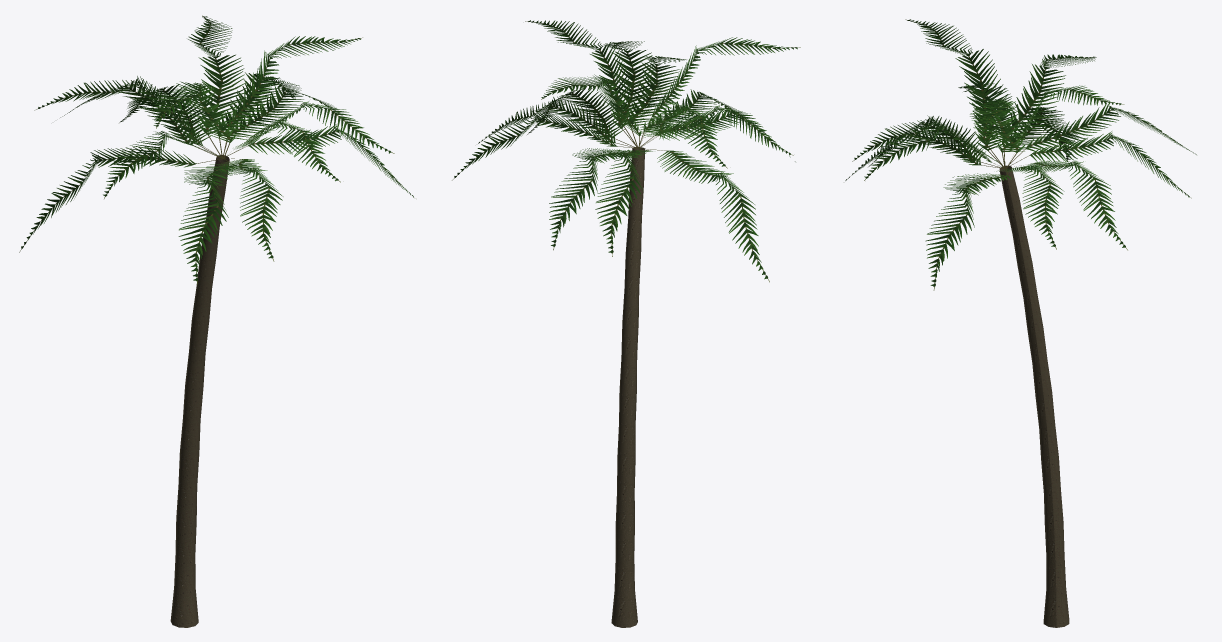
The model's file is SM_Palm_02.gltf.
The picture shows the model from 3 angles, left to right: view 1: azimuth 30°, elevation 25°; view 2: azimuth 150°, elevation 25°; view 3: azimuth 270°, elevation 25°; orthographic projection. The views are drawn at different scales.
Visible parts, largest first — view 1: SM_Palm_02; view 2: SM_Palm_02; view 3: SM_Palm_02.
Boxes of the visible parts, box(x1,y1,x2,y2) form: SM_Palm_02: box(19, 15, 413, 627); SM_Palm_02: box(452, 20, 800, 627); SM_Palm_02: box(845, 19, 1196, 627).
Size of the model in its own units: 7.54 by 12.27 by 7.38.
2 materials, 2 textured.
